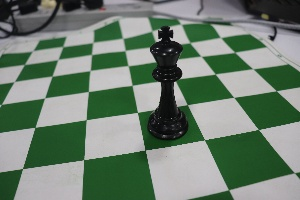black_king: (139, 11, 193, 151)
